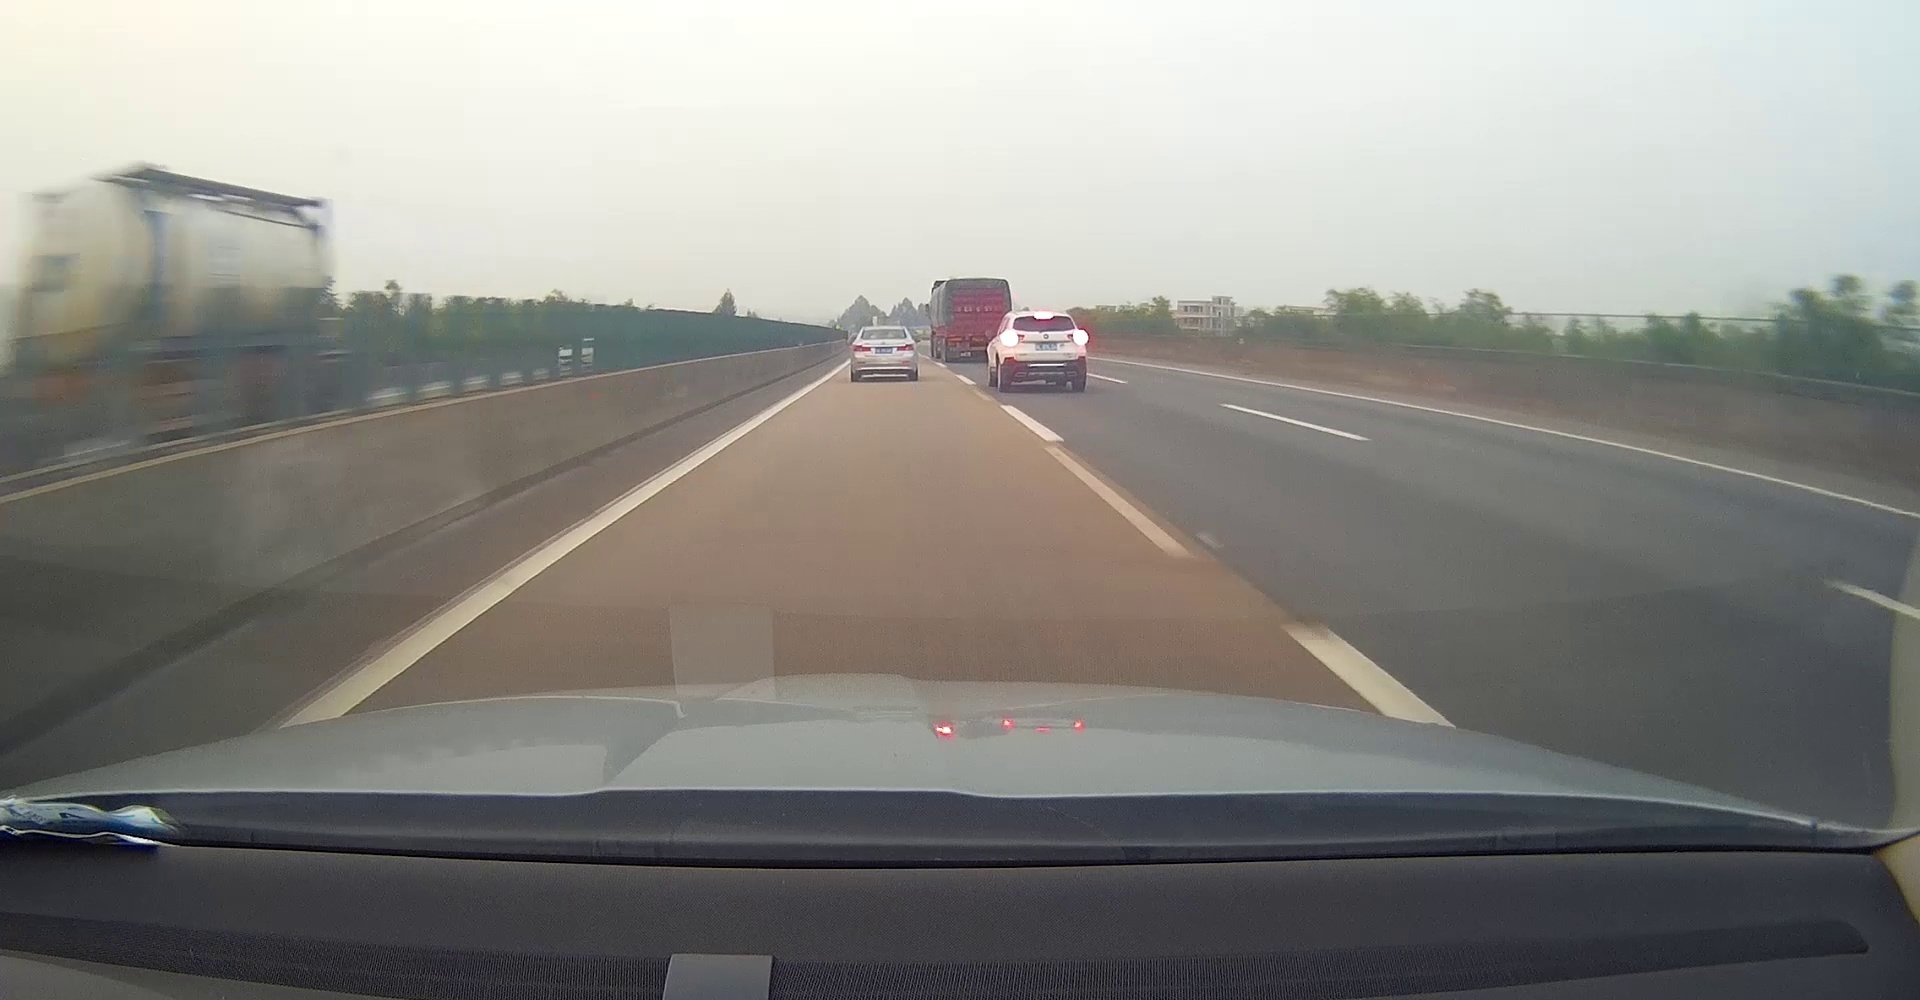L_light: (1003, 332, 1023, 341), (852, 345, 871, 352)
R_light: (1067, 332, 1084, 341), (897, 343, 916, 350)
T_light: (1036, 316, 1051, 319), (879, 329, 889, 331)
day-brake: (1001, 311, 1087, 392)
day-no: (851, 327, 917, 381)
